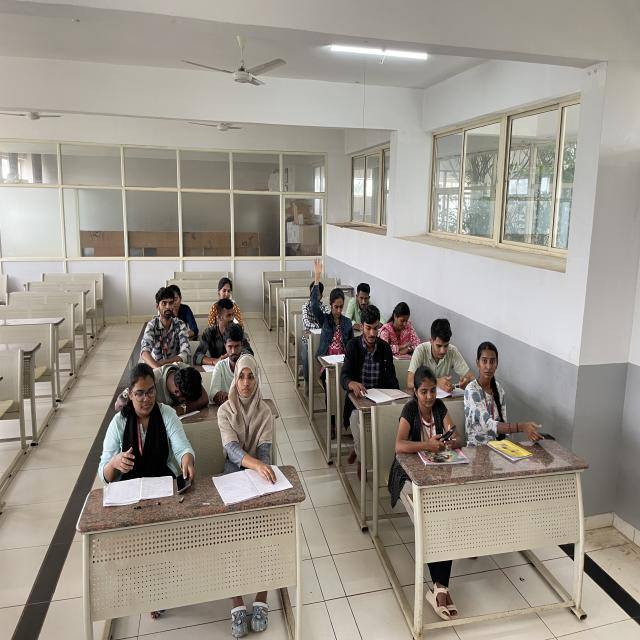Hand Rising: (308, 255, 349, 352)
Reading: (344, 302, 396, 402), (381, 300, 423, 358)
Sleeping: (156, 358, 210, 425)
Using Phone: (101, 358, 194, 494), (463, 340, 549, 456), (396, 364, 461, 463), (413, 318, 472, 390)
